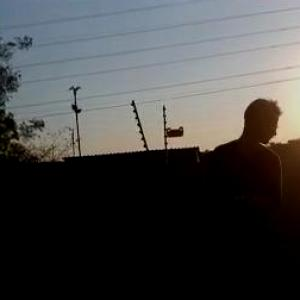follow: (195, 95, 290, 299)
